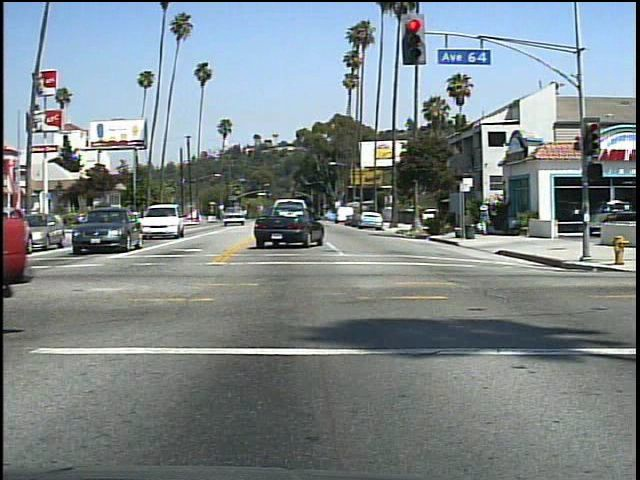person: (476, 200, 496, 238)
